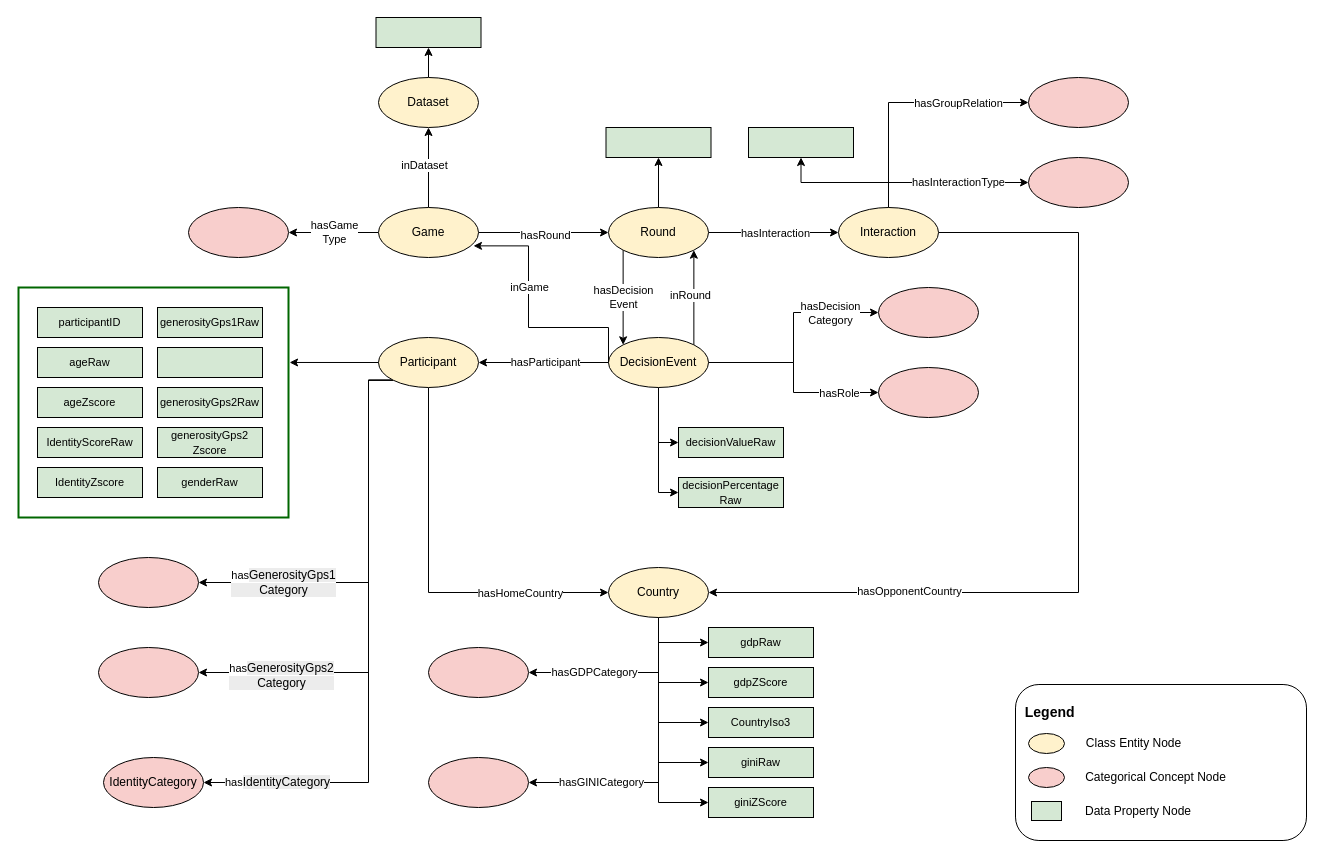
Image size: 1324x858. Some labels were removed from this diagram. Here are the shapes that lost their labels. From the top down, the centre of each, then its label:
At point (428, 32): "datasetIdentifier".
At point (1078, 102): "GroupRelation".
At point (658, 142): "roundNumber".
At point (801, 142): "rawGroundRelation Label".
At point (1078, 182): "InteractionType".
At point (238, 232): "GameType".
At point (928, 312): "DecisionCategory".
At point (209, 362): "generosityGps1 Zscore".
At point (928, 392): "Role".
At point (148, 582): "GenerosityGps1 Category".
At point (148, 672): "GenerosityGps2 Category".
At point (478, 672): "GDPCategory".
At point (478, 782): "GINICategory".
